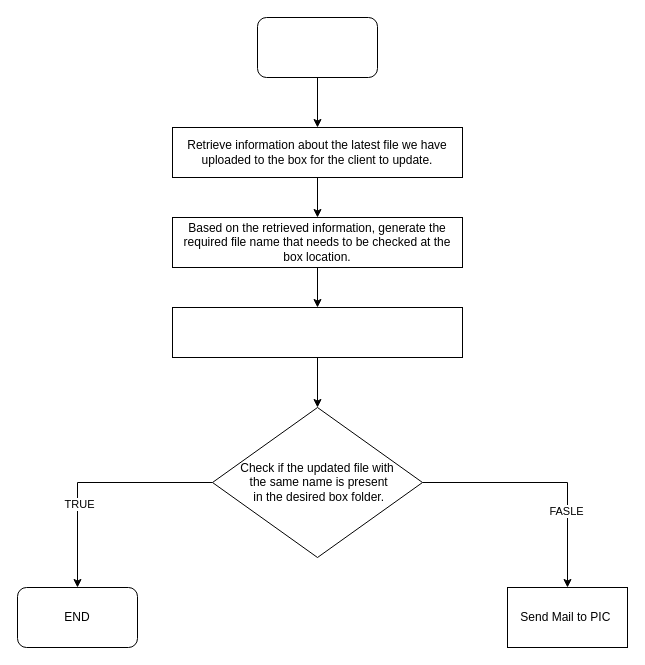
Some shapes in this 645 by 665 pixel diagram are drawn without their labels. Each missing label, with the centre of its shape:
"Create Box connection" belongs at (x=317, y=332).
"START" belongs at (x=317, y=47).
